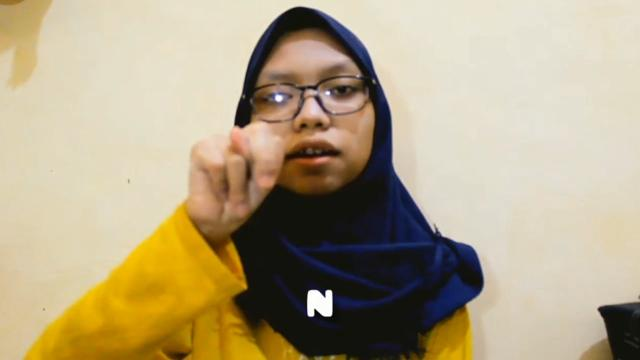N: (180, 121, 284, 231)
